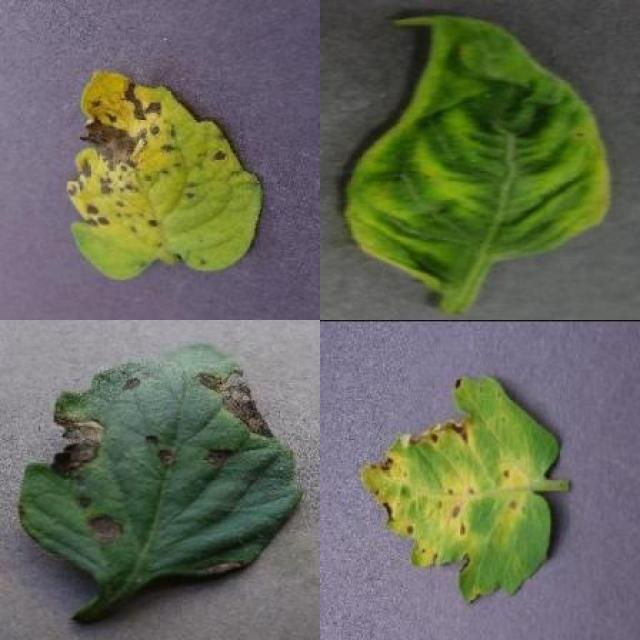Early Blight: (20, 342, 303, 587)
Septoria: (358, 375, 562, 602), (68, 67, 265, 283)
Yellow Leaf Curl Virus: (345, 17, 609, 290)
